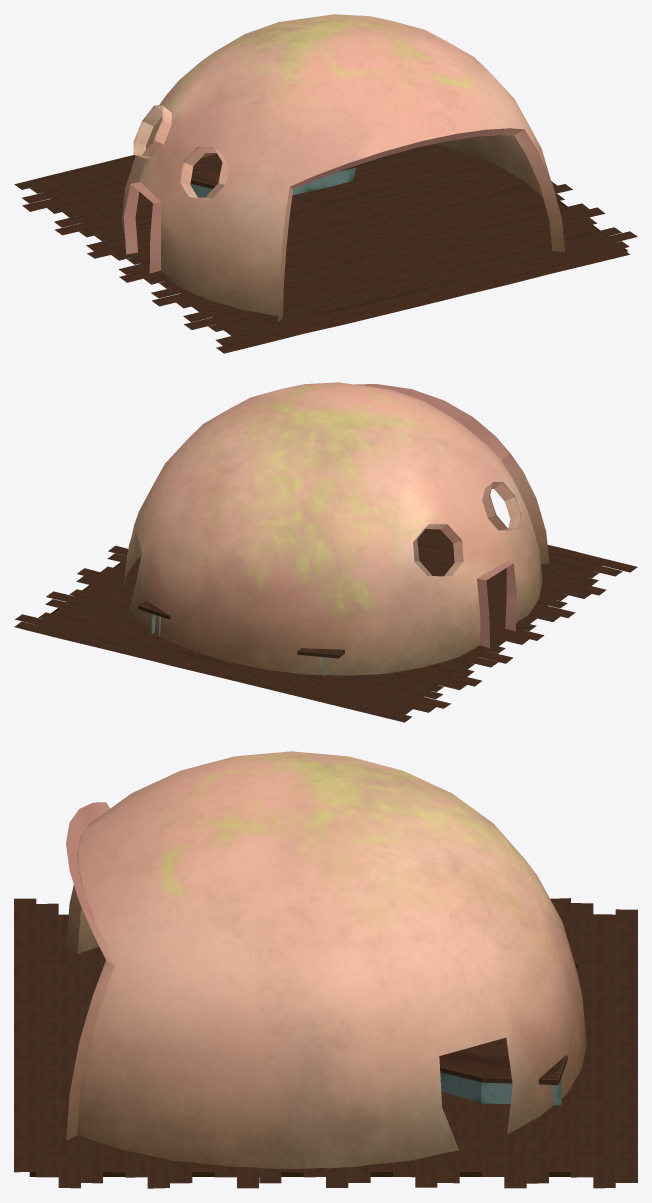
Rendered from Bar_noninteractable_v01.glb.
3 renders of one model, top to bottom at view 1: azimuth 30°, elevation 25°; view 2: azimuth 150°, elevation 25°; view 3: azimuth 270°, elevation 25°, orthographic. The views are drawn at different scales.
Parts seen in each view (by area): view 1: Background, PlankFloor.001, Plane.002, ThekeUntenLP, ThekeOboenLP; view 2: Background, PlankFloor.001, Plane.002, ThekeOboenLP; view 3: Background, PlankFloor.001, ThekeOboenLP, ThekeUntenLP, Plane.002.
Boxes of the visible parts, <box> form: Background: <box>122,14,564,321</box>; PlankFloor.001: <box>14,143,637,353</box>; Plane.002: <box>45,149,627,324</box>; ThekeUntenLP: <box>190,168,355,197</box>; ThekeOboenLP: <box>190,160,373,188</box>; Background: <box>123,382,549,677</box>; PlankFloor.001: <box>14,529,637,722</box>; Plane.002: <box>37,536,601,715</box>; ThekeOboenLP: <box>138,600,344,658</box>; Background: <box>66,751,586,1169</box>; PlankFloor.001: <box>14,898,637,1188</box>; ThekeOboenLP: <box>439,954,578,1084</box>; ThekeUntenLP: <box>440,1072,561,1105</box>; Plane.002: <box>29,930,570,1176</box>.
Size of the model in its own units: 7.47 by 3.22 by 6.81.
Materials: 4 (3 with a texture image).
